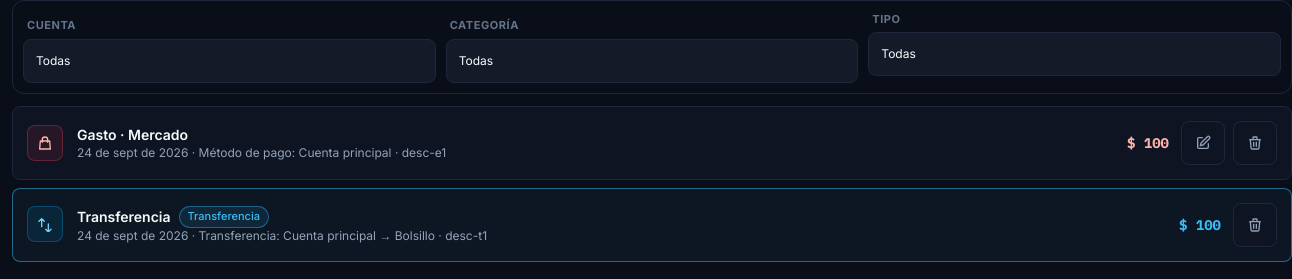
Test: MovementHistory › widens the direction filter with the transfer option
Expected: the text "desc-e1" is shown, [392,145,446,160]
Select "Transferencia" in the dropdown named "Tipo" at (1075, 54), box [868,32,1281,76]
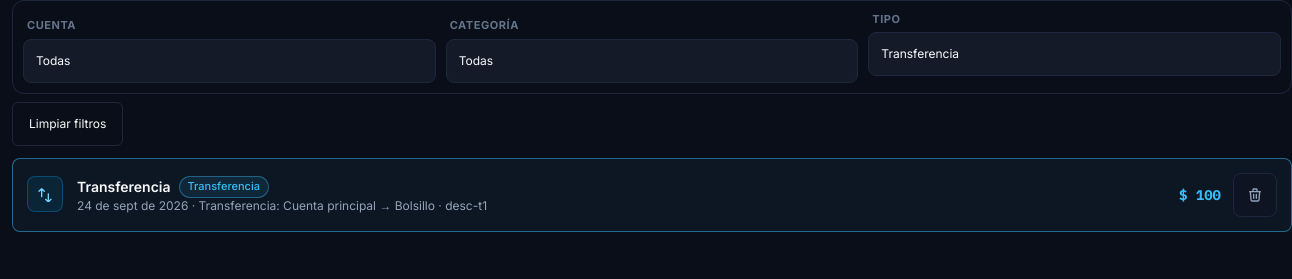
Expected: the text "Transferencia: Cuenta principal → Bolsillo" is shown, [198,198,435,213]
Now the text "desc-e1" is gone
